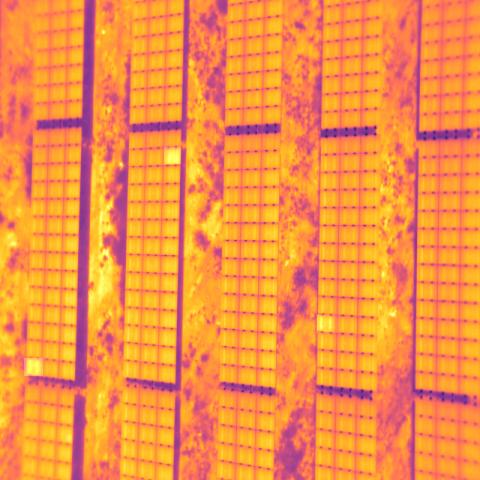fault: (316, 315, 337, 333), (24, 358, 43, 376), (164, 147, 181, 164)
